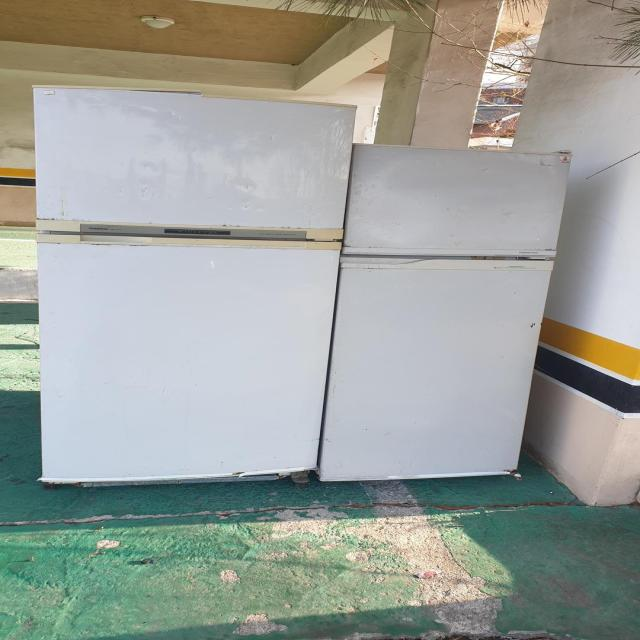refrigerator: (32, 83, 360, 485)
